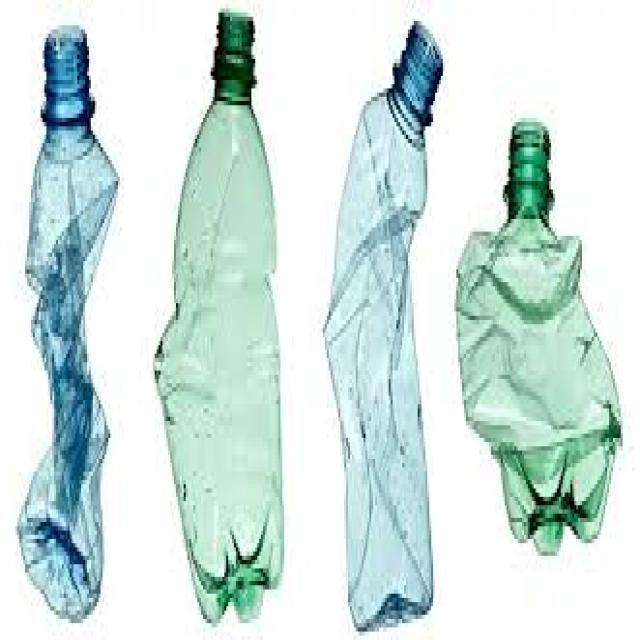Plastic: (152, 6, 284, 626), (323, 26, 445, 626), (455, 119, 621, 554), (22, 25, 122, 620)
